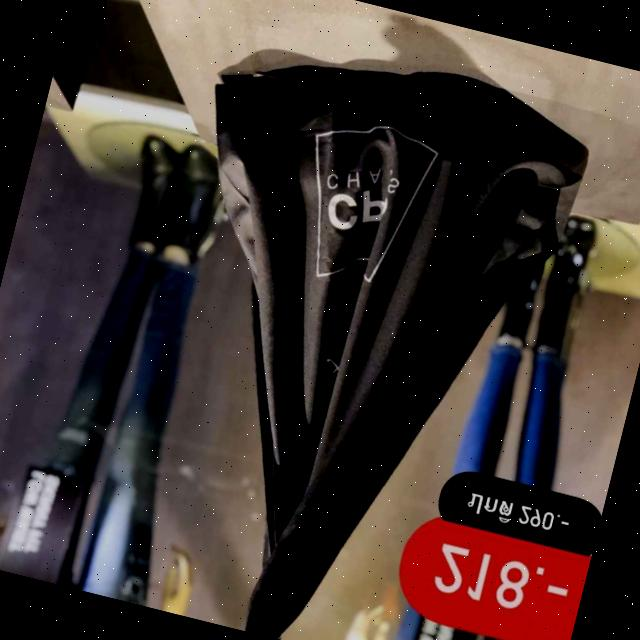handbag: (89, 18, 599, 640)
